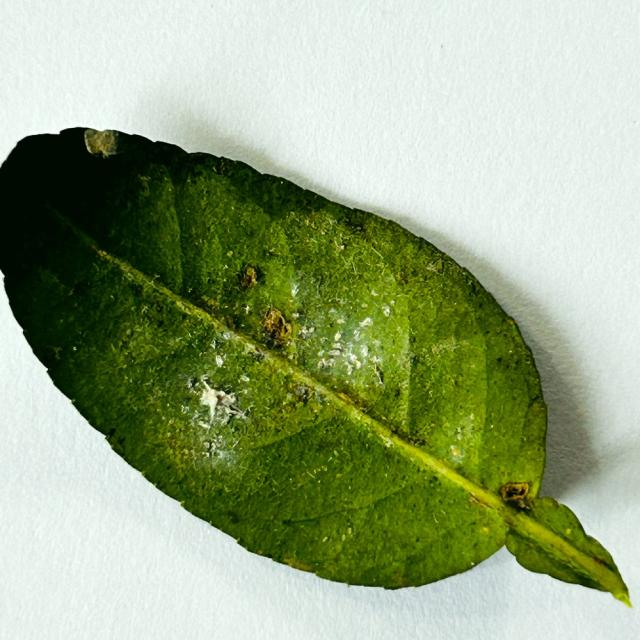Bacterial_Blight: (244, 310, 300, 358), (260, 308, 292, 347), (499, 482, 531, 505), (240, 266, 260, 289), (334, 391, 359, 409), (293, 384, 312, 404), (223, 314, 238, 333)
Lemon: (0, 128, 627, 603)
